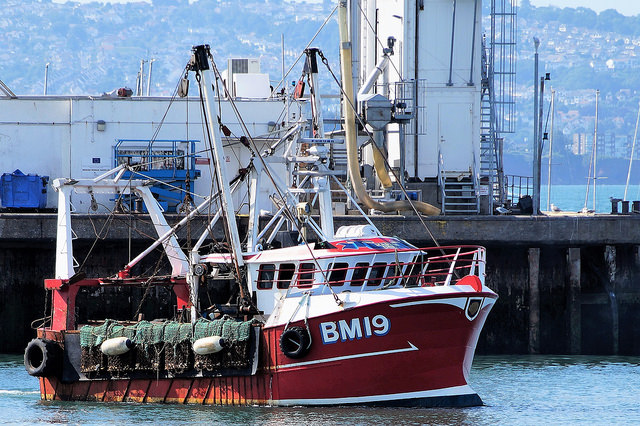fishing_boat: (26, 19, 496, 413)
